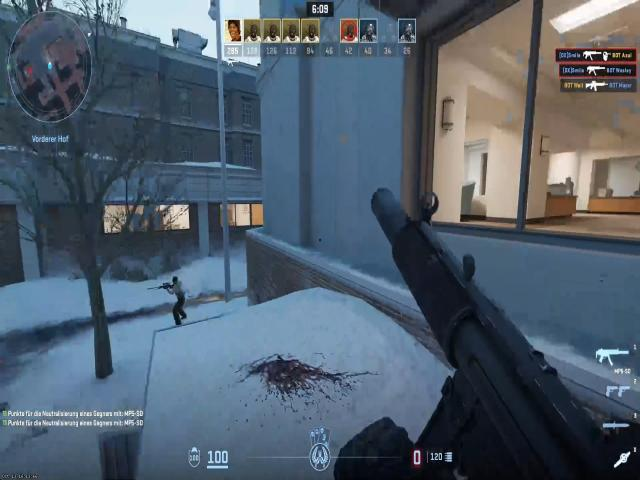T: (168, 270, 187, 318)
T-Head: (172, 275, 180, 289)
